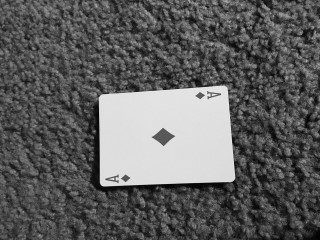AceOfDiamonds: (99, 85, 235, 187)
